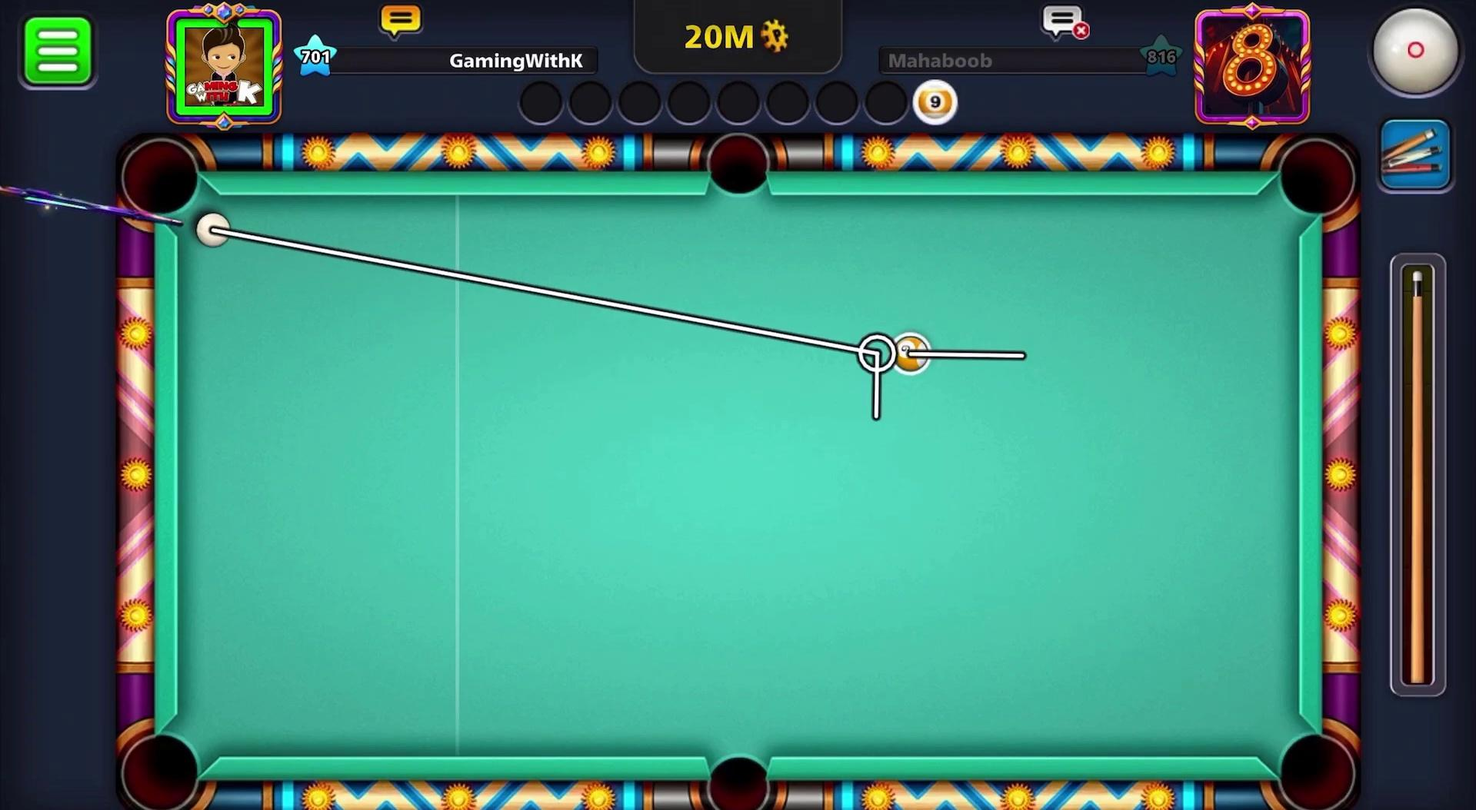Ball: (885, 332, 930, 376)
Force: (1388, 255, 1451, 703)
Guideline: (198, 213, 1026, 420)
Hole: (101, 126, 231, 240), (1266, 128, 1368, 231), (110, 719, 213, 809), (1265, 719, 1364, 809), (685, 128, 788, 214), (685, 734, 786, 809)
Play_Area: (175, 201, 1294, 759)
Spin: (1346, 0, 1475, 111)
White: (188, 206, 238, 251)
